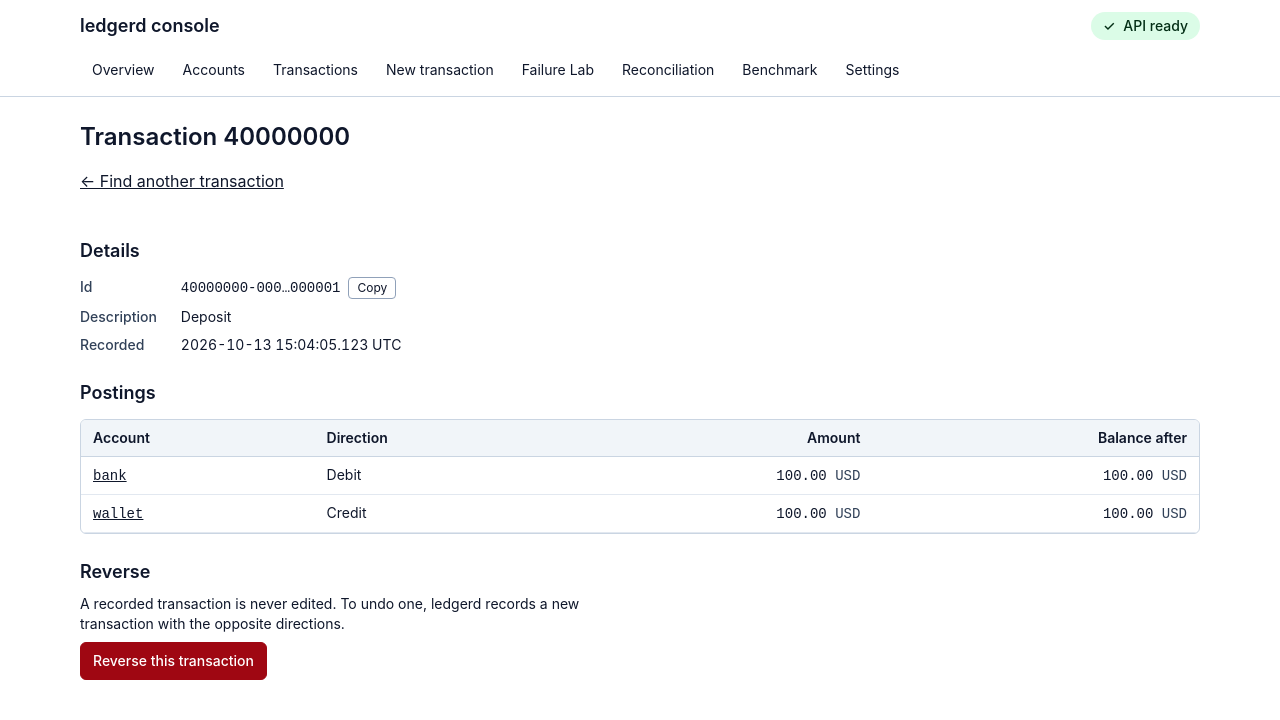
Scenario: reversing (R8.3 to R8.5) › asks first, explaining that the original is not changed and a new offsetting one is made
expect the heading "Transaction 40000000" is shown: met, box left=80, top=121, right=350, bottom=153
Click the button "Reverse this transaction".
click(174, 661)  # box left=80, top=642, right=267, bottom=680
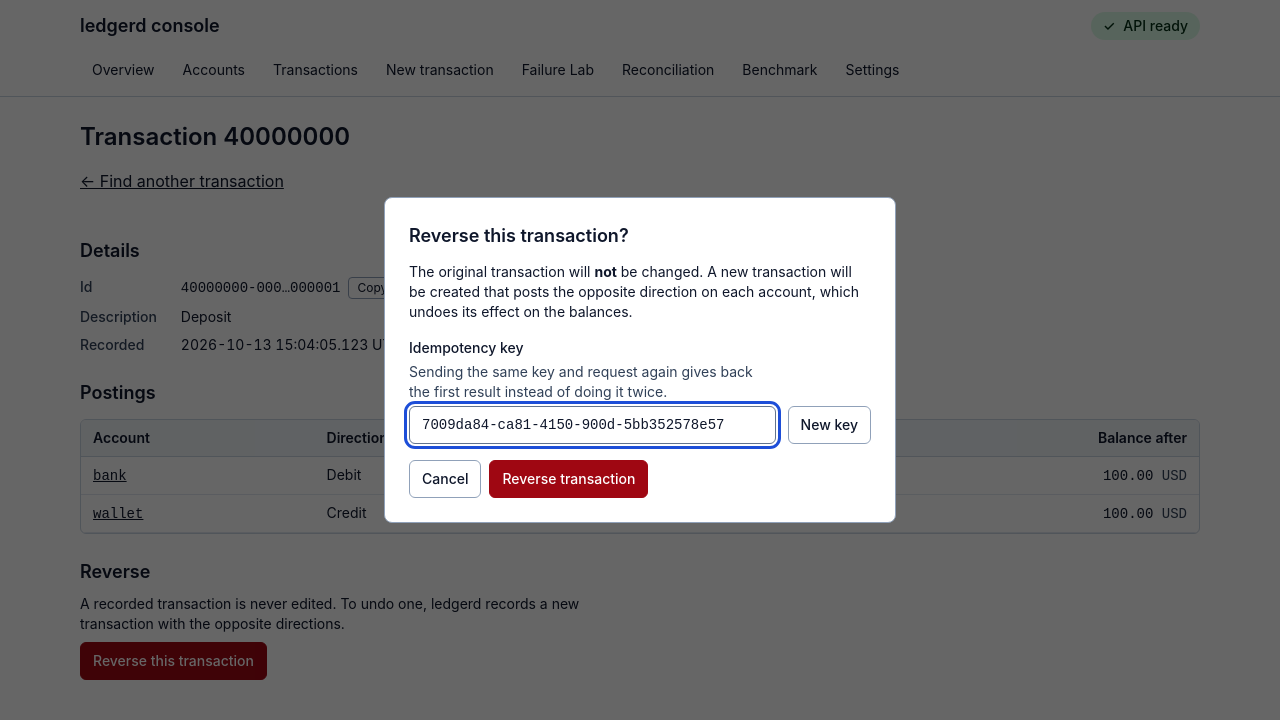
expect the dialog "Reverse this transaction?" shows "will not be changed": met, box left=384, top=197, right=896, bottom=523
expect the dialog "Reverse this transaction?" shows "A new transaction will be created": met, box left=409, top=263, right=859, bottom=320
expect the dialog "Reverse this transaction?" shows "opposite direction": met, box left=409, top=263, right=859, bottom=320
